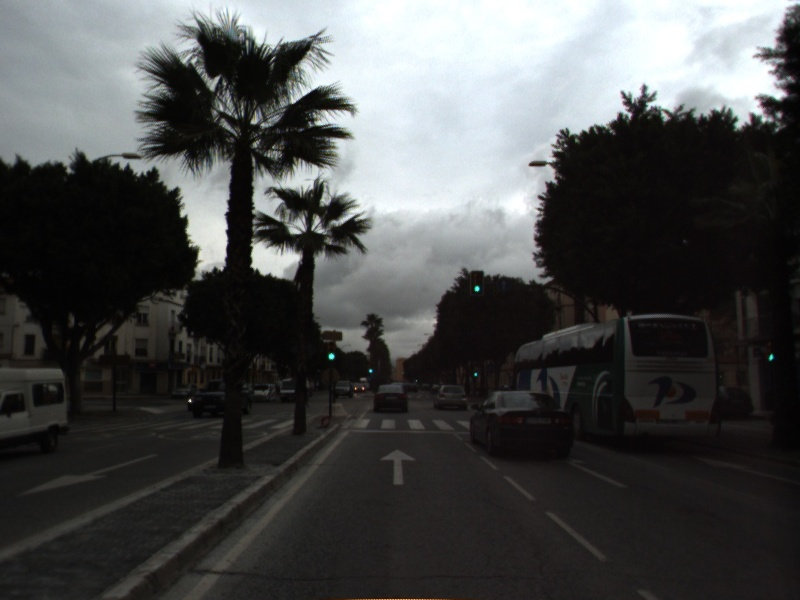STRAIGHT: (688, 452, 800, 487), (554, 455, 632, 491), (378, 446, 419, 487)
